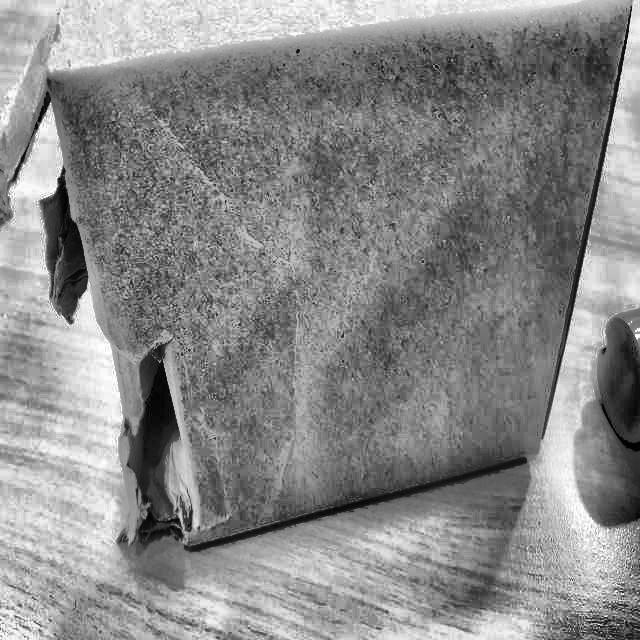box: (18, 0, 640, 562)
hole: (112, 338, 195, 555)
